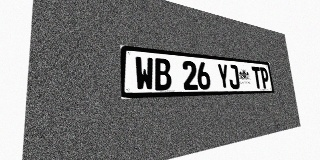2: (182, 60, 198, 90)
6: (196, 61, 211, 90)
B: (154, 58, 172, 90)
J: (227, 64, 240, 89)
P: (259, 67, 270, 88)
T: (251, 66, 262, 89)
W: (134, 56, 154, 91)
Y: (217, 63, 230, 89)
